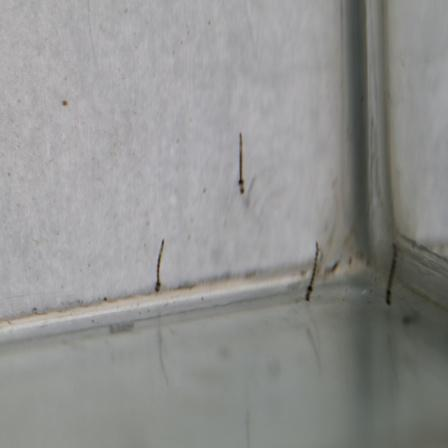Jentik-Nyamuk: (301, 239, 325, 304), (380, 239, 403, 306), (233, 131, 251, 197), (151, 238, 169, 294)
